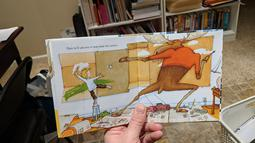text block: (60, 39, 127, 53)
